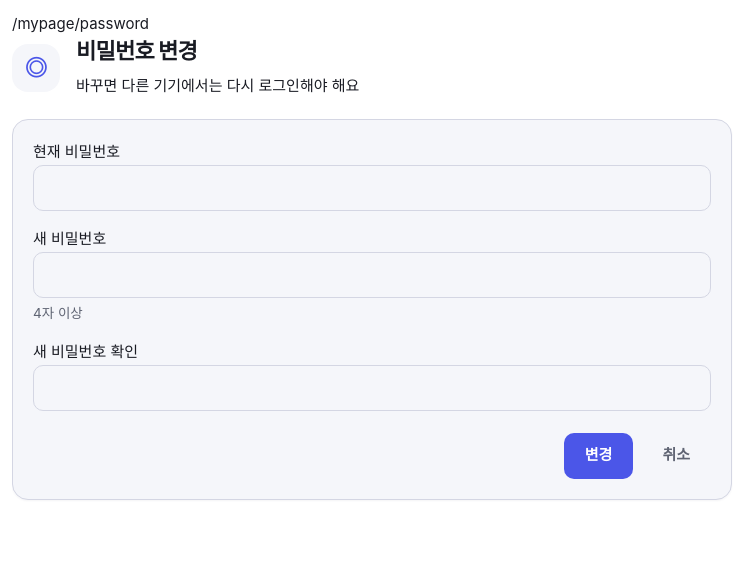
Test: 비밀번호 변경 — 서버 판정 (AC-A-22 ~ 25) › 현재 비밀번호가 틀리면(400 PASSWORD_MISMATCH) 그 칸만 비워진다
The width and height of the screenshot is (749, 577).
In the password field labelled "현재 비밀번호": (372, 188) [33,165,711,211], type "1234"
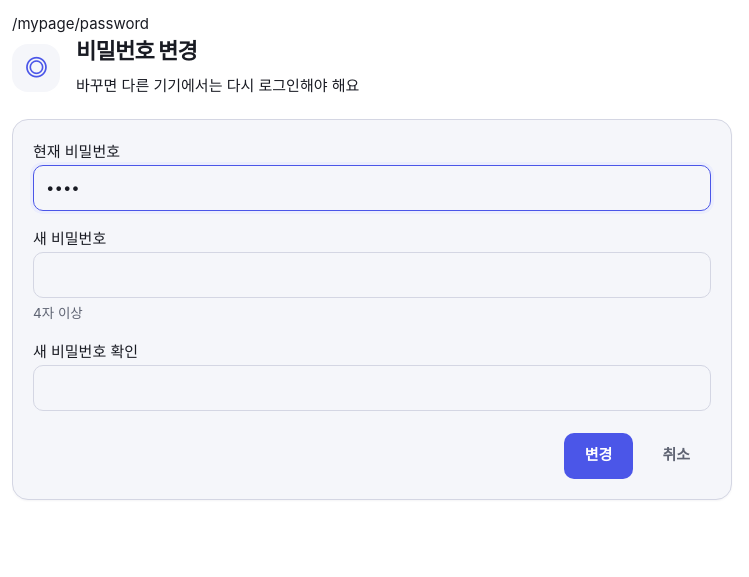
In the password field labelled "새 비밀번호": (372, 275) [33,252,711,298], type "newpass1234"
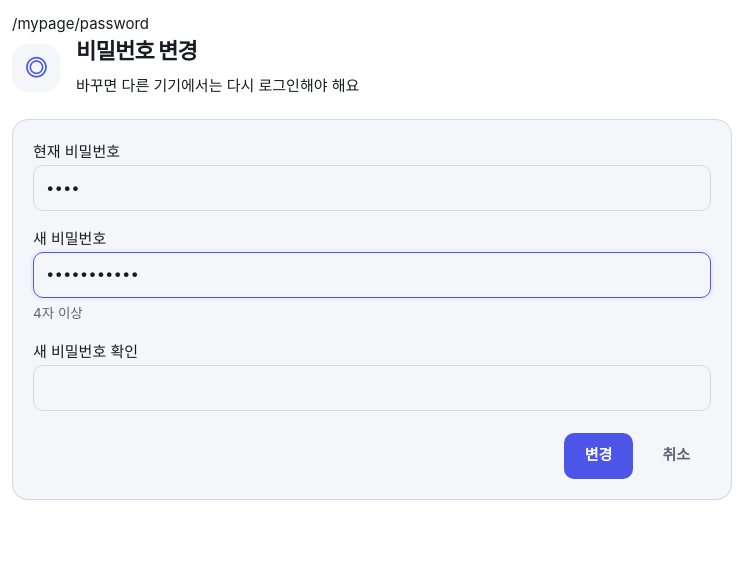
In the password field labelled "새 비밀번호 확인": (372, 388) [33,365,711,411], type "newpass1234"
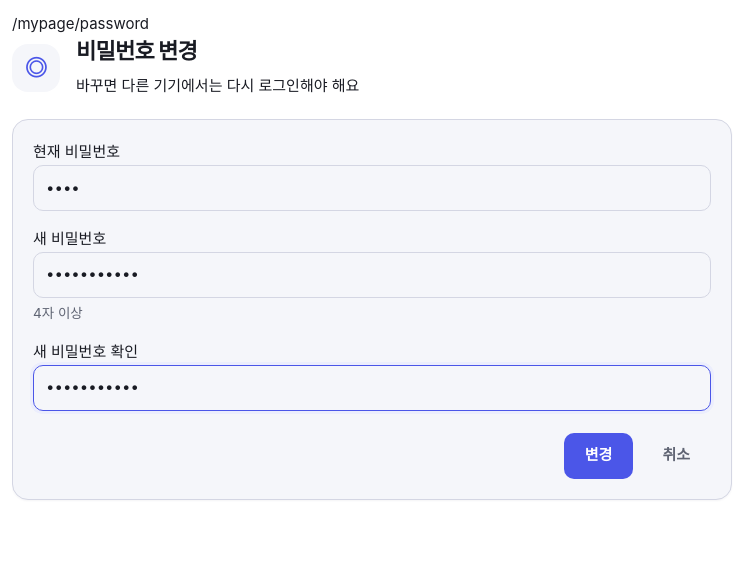
Click the button "변경": (599, 456) [564,433,633,479]
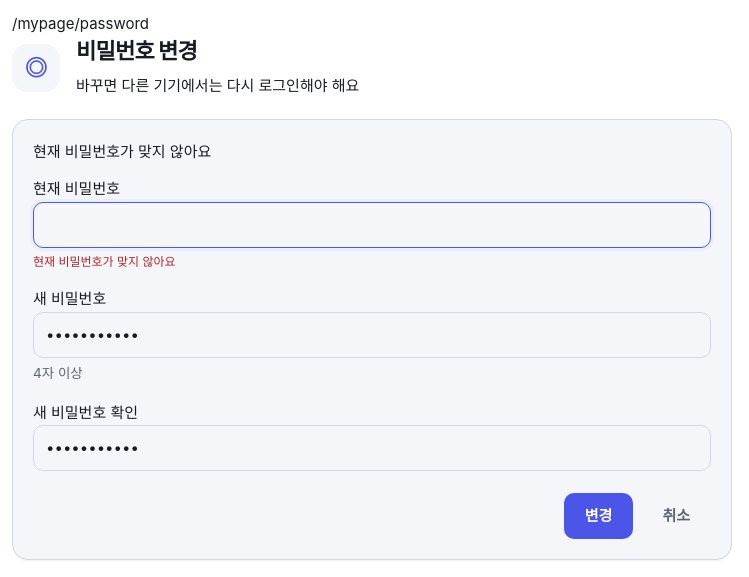
expect the message "현재 비밀번호가 맞지 않아요" is shown: met, box [33,142,211,161]
expect the password field labelled "현재 비밀번호" is empty: met, box [33,202,711,248]
